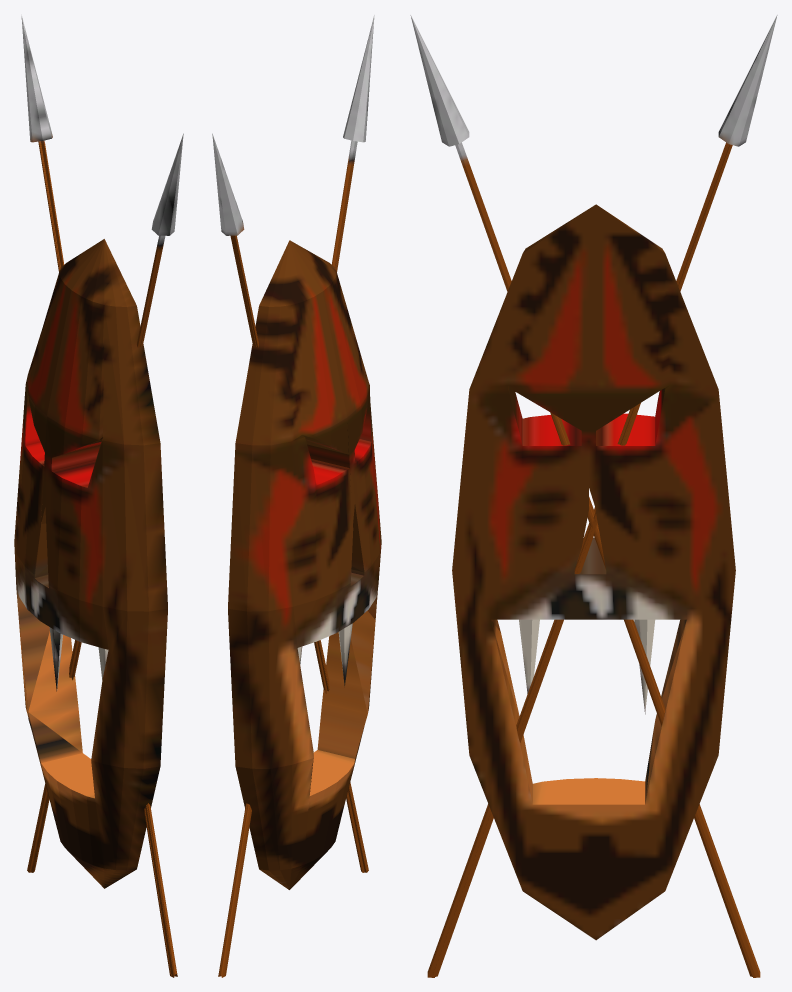
File: Mask.glb
3 views of the same model, side by side, from view 1: azimuth 30°, elevation 25°; view 2: azimuth 150°, elevation 25°; view 3: azimuth 270°, elevation 25° (orthographic). The views are drawn at different scales.
Visible parts, largest first — view 1: Mask; view 2: Mask; view 3: Mask.
Part boxes in pixels (x1,y1,x2,y2): Mask: (14, 15, 183, 977); Mask: (212, 15, 381, 977); Mask: (410, 15, 777, 977).
Size of the model in its own units: 25.31 by 280 by 96.82.
1 material, 1 textured.
